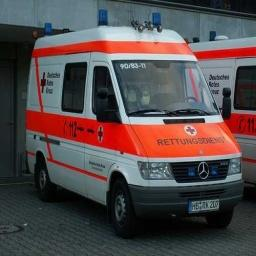Ambulance: (26, 14, 242, 237), (190, 37, 255, 183)
